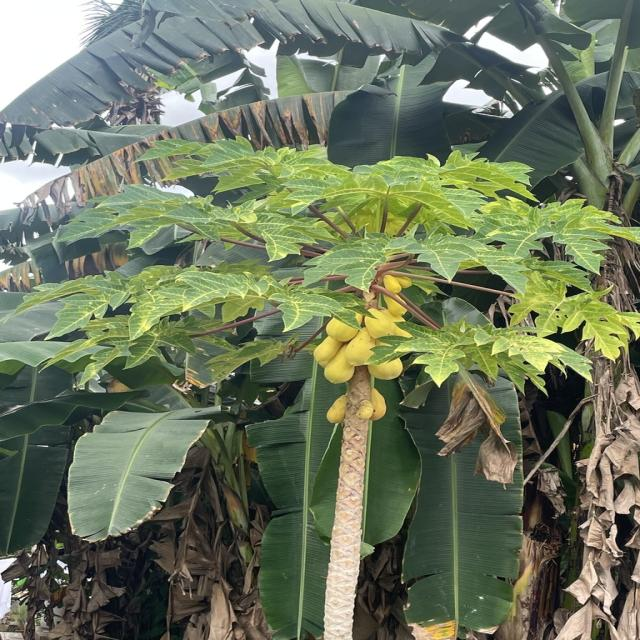Papaya-Tree: (75, 133, 640, 605)
